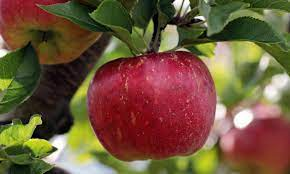tao: (86, 52, 221, 161), (1, 1, 105, 64)
